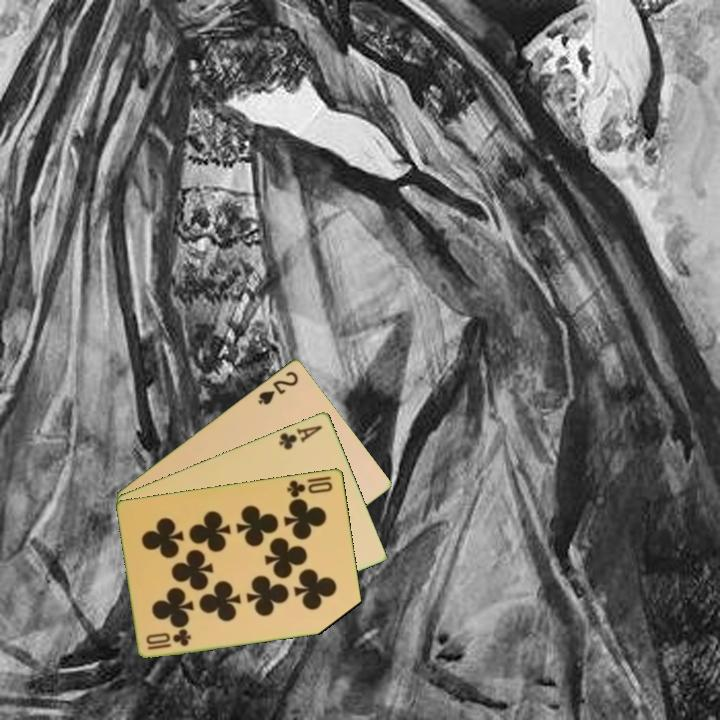10c: (143, 626, 195, 652), (284, 476, 336, 500)
2s: (255, 367, 301, 407)
Ac: (276, 421, 325, 452)
